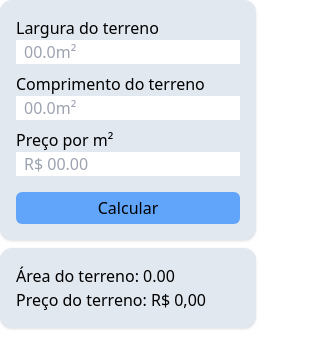
Test: Exercises 1: Price of land › should calc area of land
This screenshot has width=320, height=346.
In the field with id "landWidth": [128, 52] box x1=16 y1=40 x2=240 y2=64, type "10"
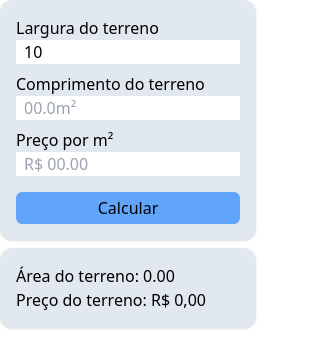
In the field with id "landCompliment": [128, 108] box x1=16 y1=96 x2=240 y2=120, type "10"
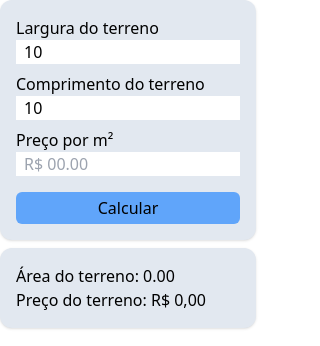
Click the button "Calcular": [128, 208] box x1=16 y1=192 x2=240 y2=224
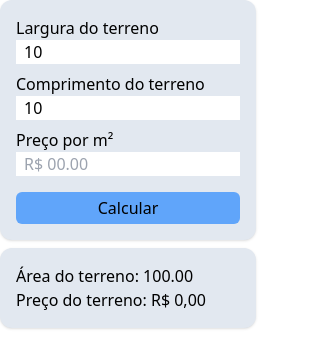
Check: the text with id "resultArea" reads "100.00", box x1=143 y1=265 x2=193 y2=287
